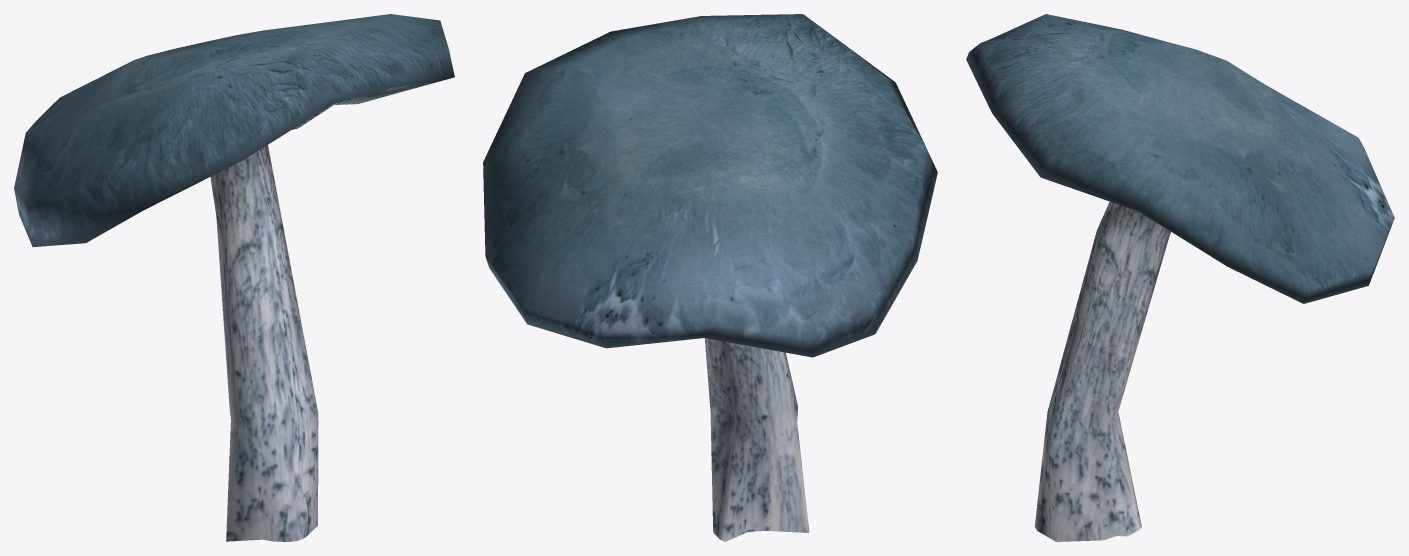
Rendered from mushy3_LOD.FBX.
The picture shows the model from 3 angles, left to right: view 1: azimuth 30°, elevation 25°; view 2: azimuth 150°, elevation 25°; view 3: azimuth 270°, elevation 25°; orthographic projection. The views are drawn at different scales.
Visible parts, largest first — view 1: mushy3_uv; view 2: mushy3_uv; view 3: mushy3_uv.
Boxes of the visible parts, x1,y1,x2,y2 form: mushy3_uv: [14, 14, 454, 541]; mushy3_uv: [483, 14, 937, 541]; mushy3_uv: [966, 14, 1394, 541].
Bounding box in the file's own units: 78.47 × 74.52 × 94.04.
